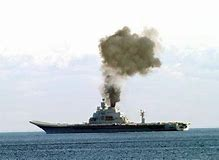smoke: (98, 27, 163, 102)
